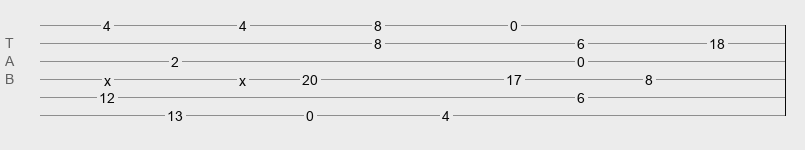0: (306, 108, 314, 118), (510, 18, 518, 28), (577, 54, 585, 64)
12: (99, 90, 115, 100)
13: (167, 108, 183, 118)
17: (506, 72, 522, 82)
18: (709, 36, 725, 46)
2: (171, 54, 179, 64)
20: (302, 72, 318, 82)
4: (103, 18, 111, 28), (239, 18, 247, 28), (442, 108, 450, 118)
6: (577, 90, 585, 100), (577, 36, 585, 46)
8: (374, 36, 382, 46), (374, 18, 382, 28), (645, 72, 653, 82)
x: (104, 73, 111, 81), (239, 73, 246, 81)
